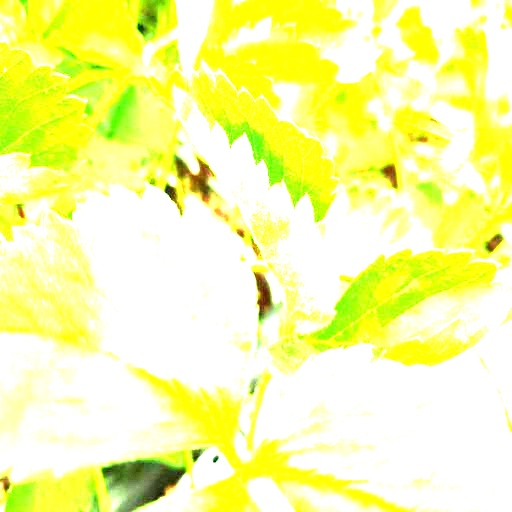Powdery Mildew Leaf: (171, 56, 340, 337), (0, 40, 98, 209)
